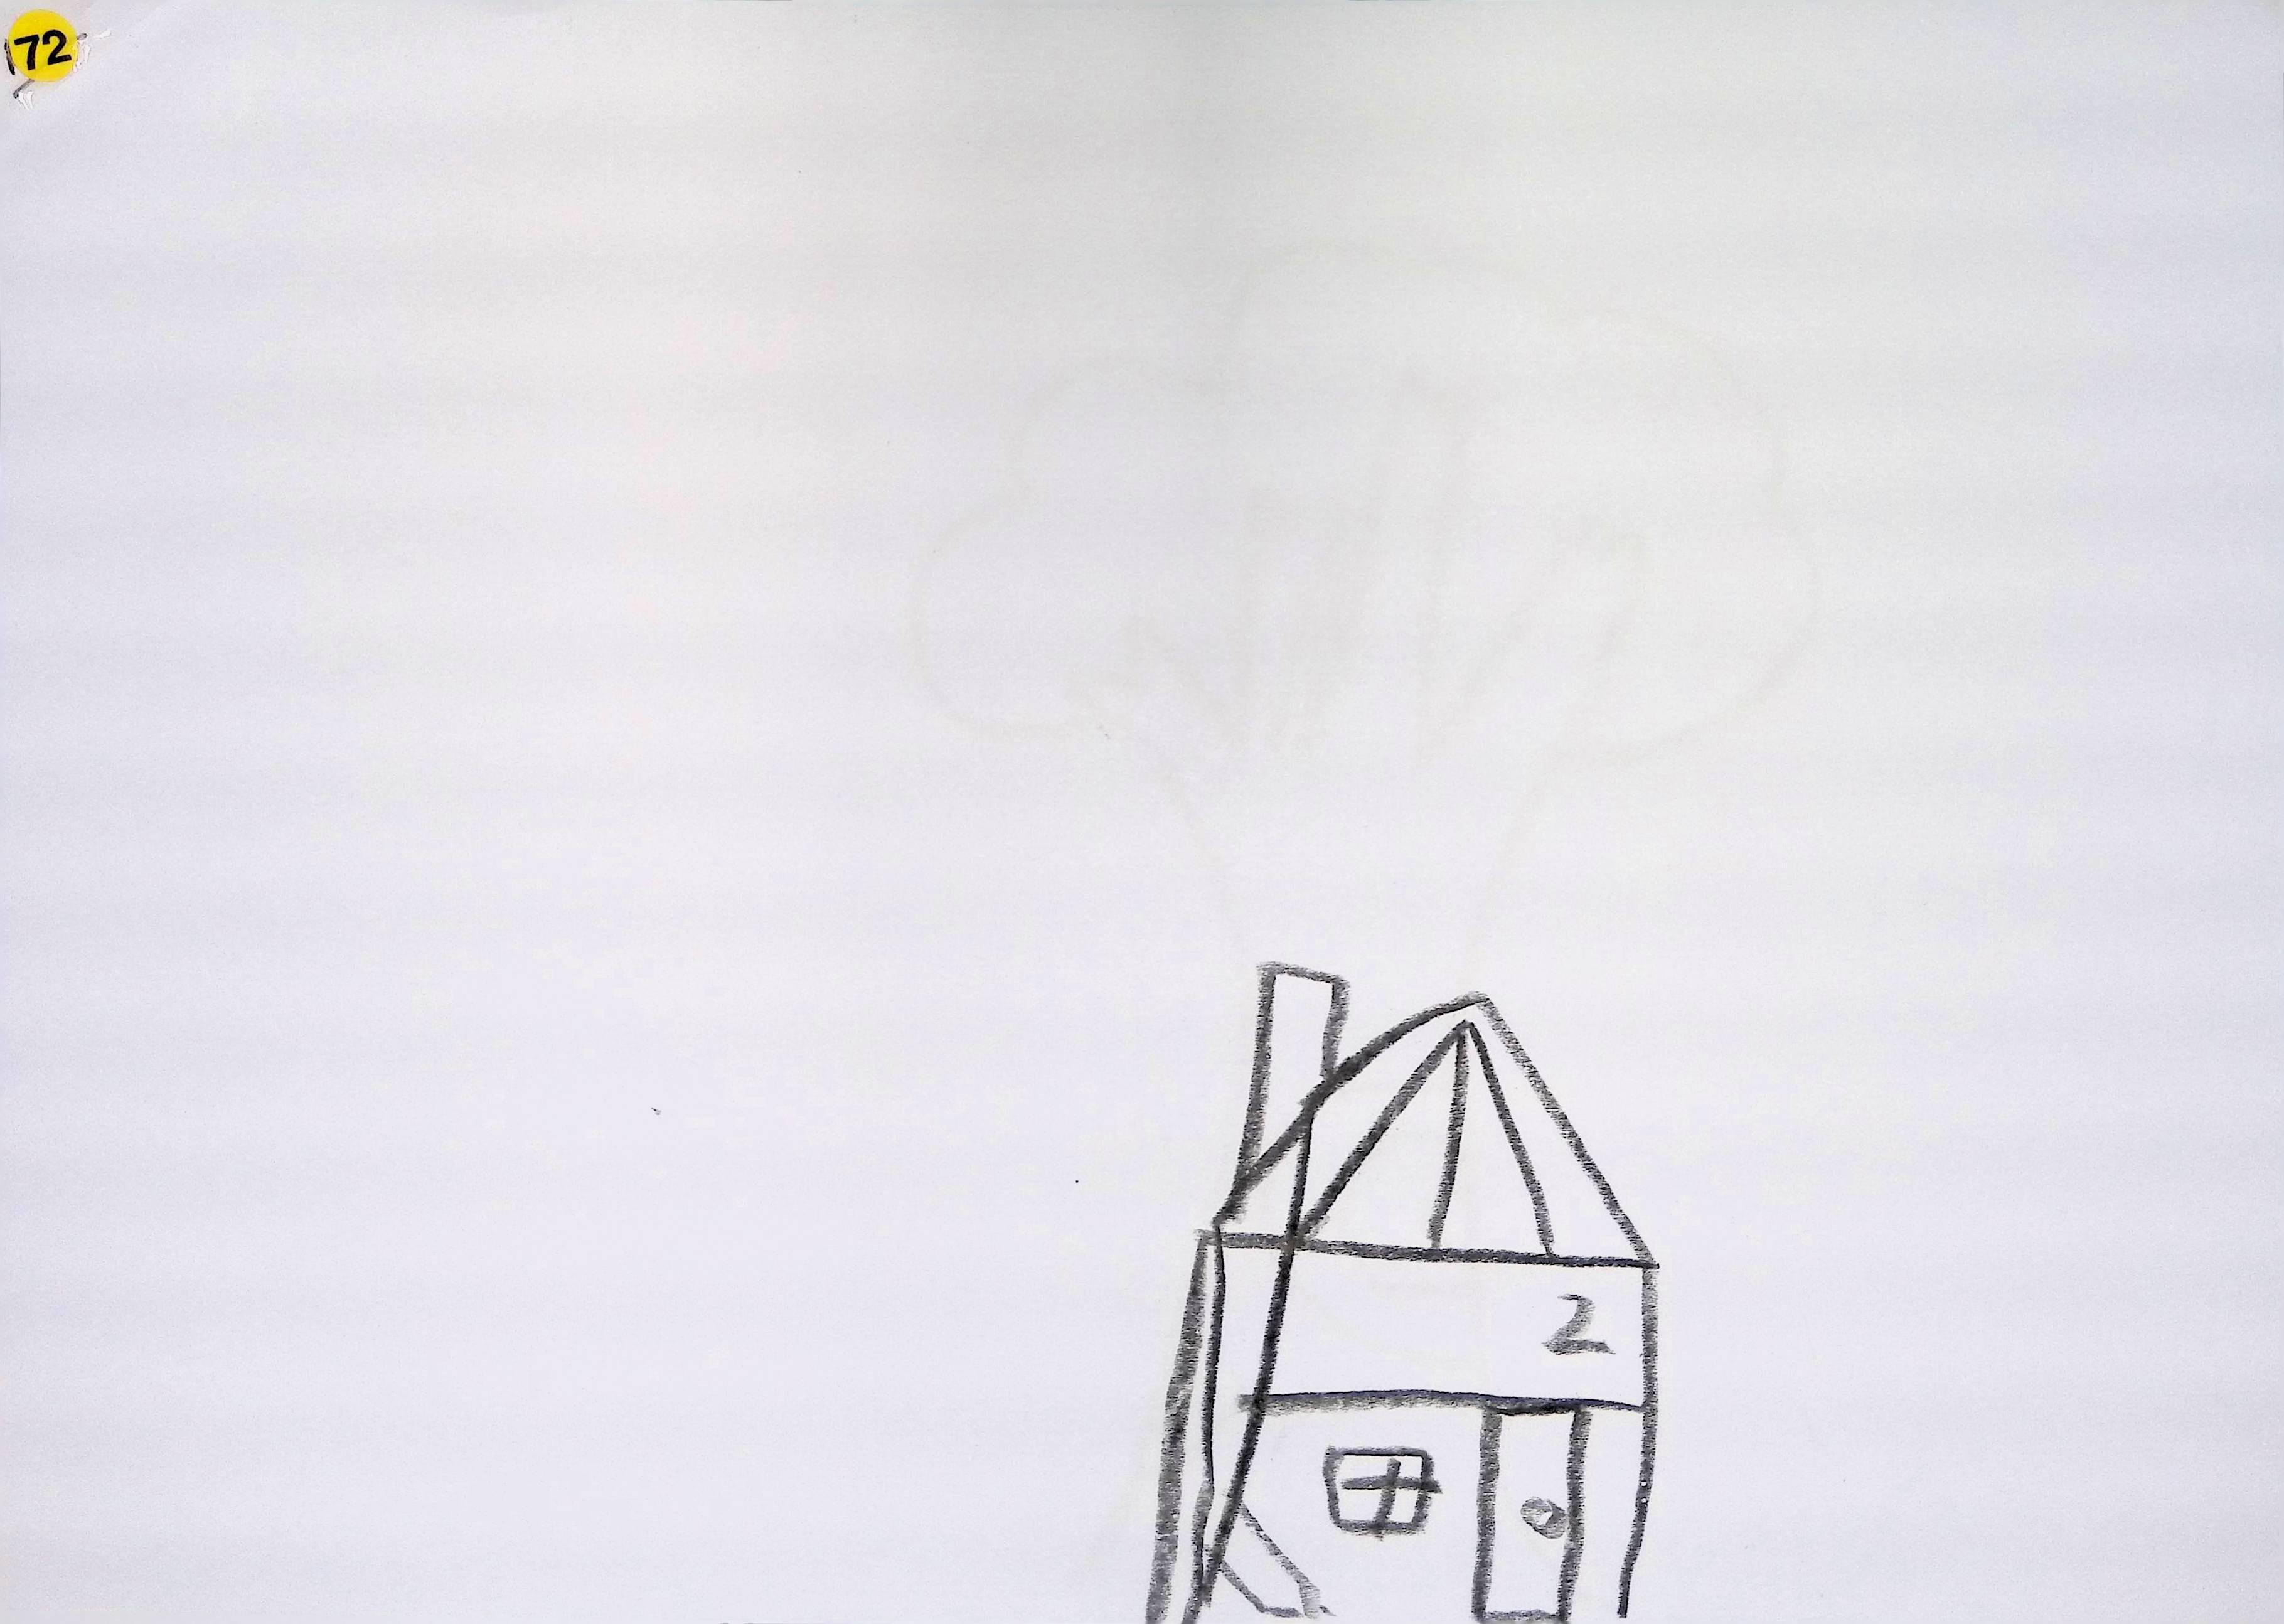chimney: (1239, 963, 1351, 1174)
door: (1490, 1417, 1572, 1622)
house: (1147, 963, 1660, 1624)
roof: (1223, 993, 1652, 1262)
wall: (1146, 1227, 1659, 1624)
window: (1325, 1448, 1442, 1541)
